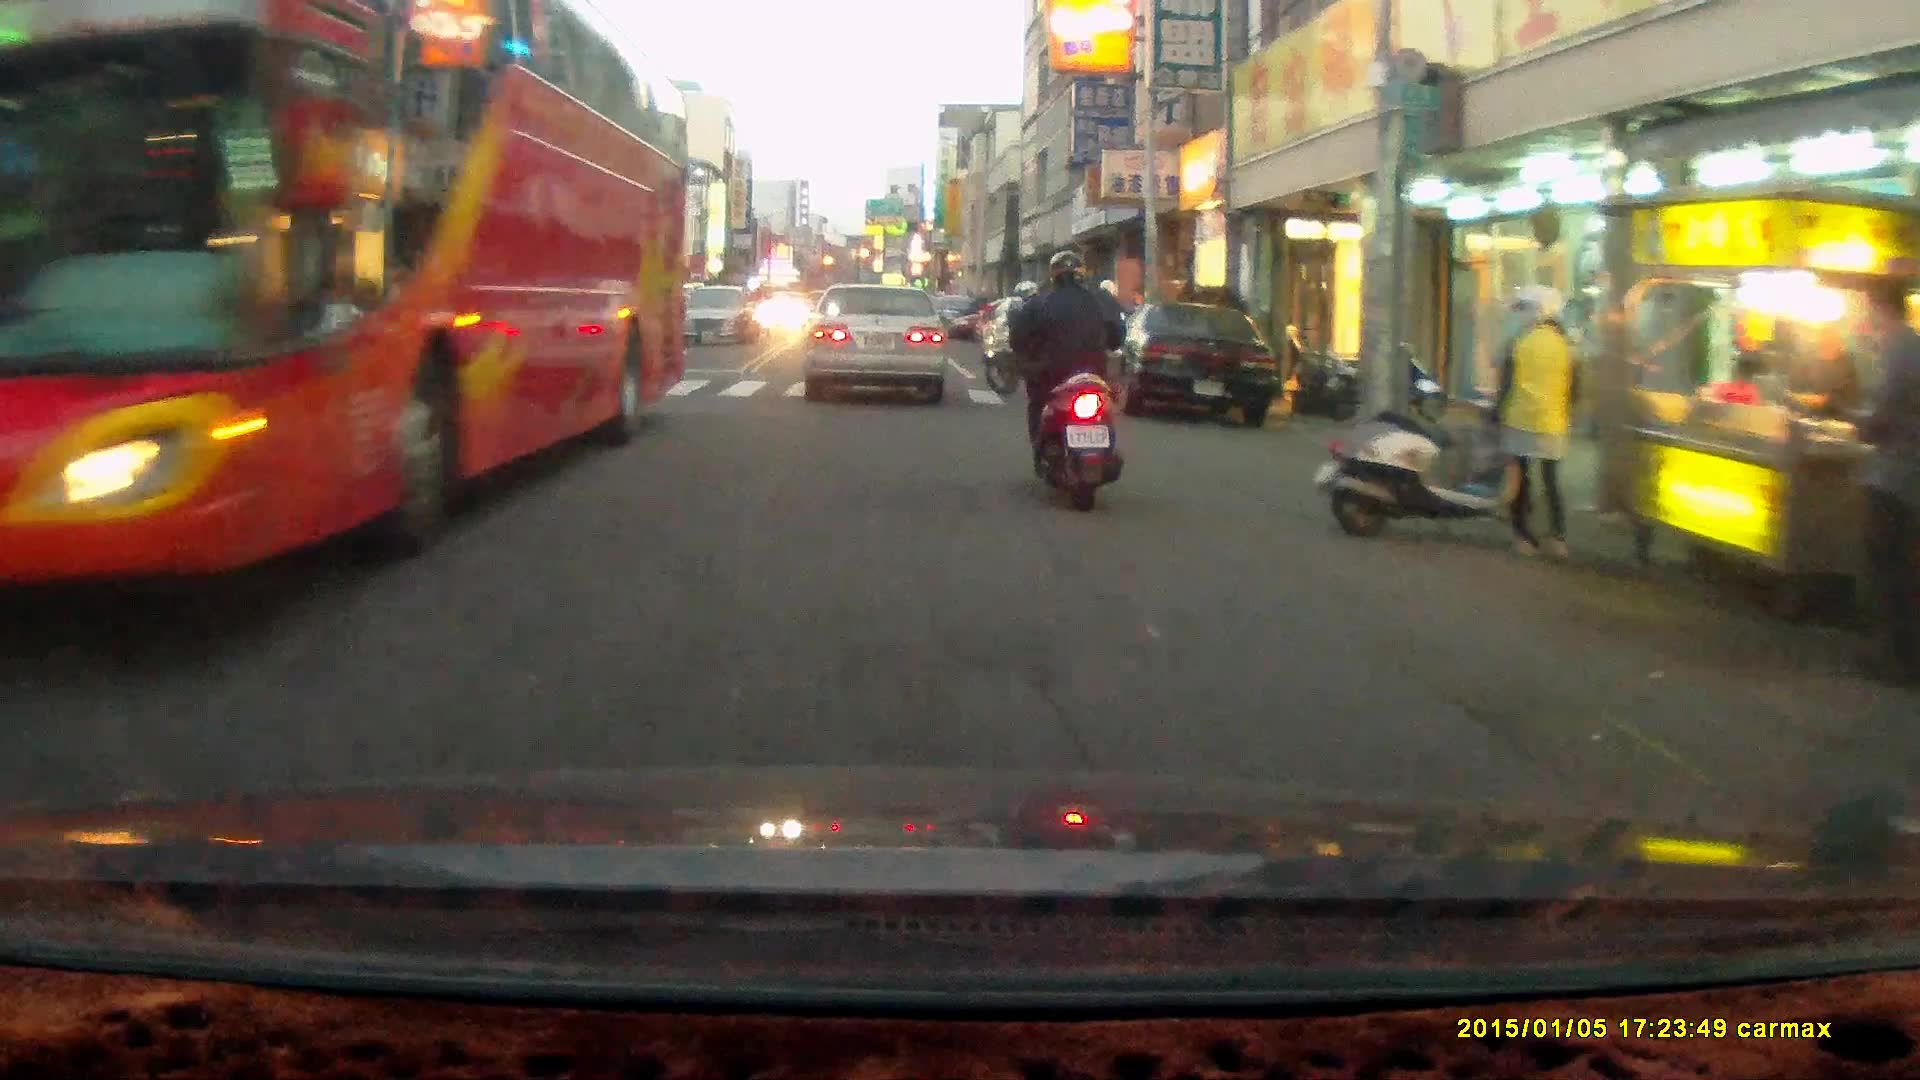pedestrian: (1800, 276, 1920, 689), (1491, 280, 1583, 564)
rider: (999, 248, 1123, 513), (987, 273, 1059, 397)
vehicle: (1, 17, 699, 589), (1096, 300, 1289, 427), (803, 281, 949, 403), (684, 286, 757, 351)
